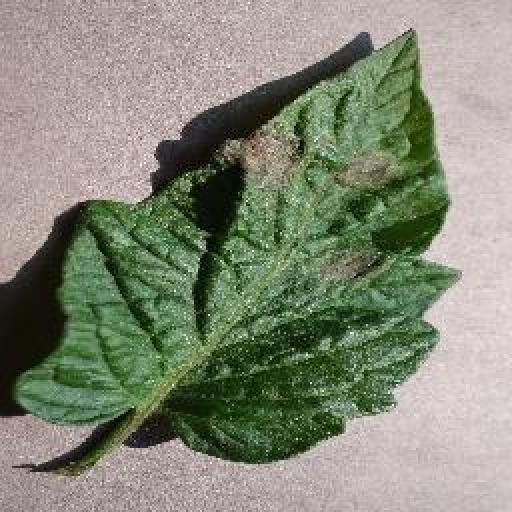Late Blight: (10, 24, 462, 465)
